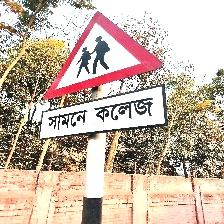College-in-front: (41, 0, 189, 142)
